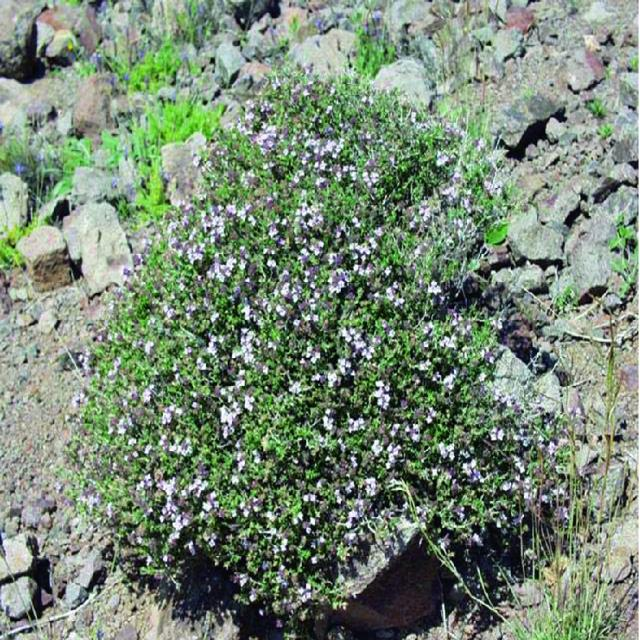Thyme: (114, 110, 546, 534)
